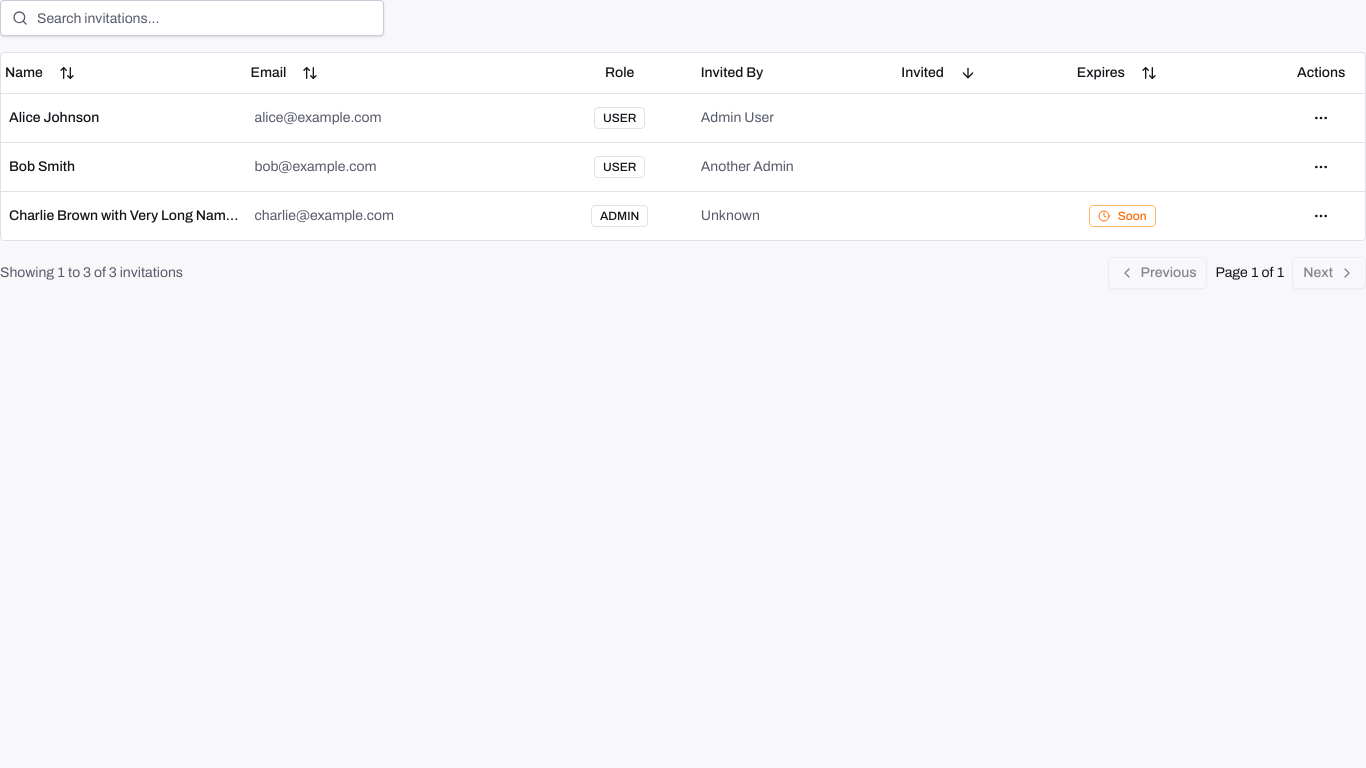
Scenario: components/admin/invitation-table › delete invitation action › should cancel invitation deletion
The image size is (1366, 768).
// Open delete dialog
Click the button named "open menu" in the row of "Alice Johnson" at coordinates (1321, 118), box [1305, 102, 1337, 134]
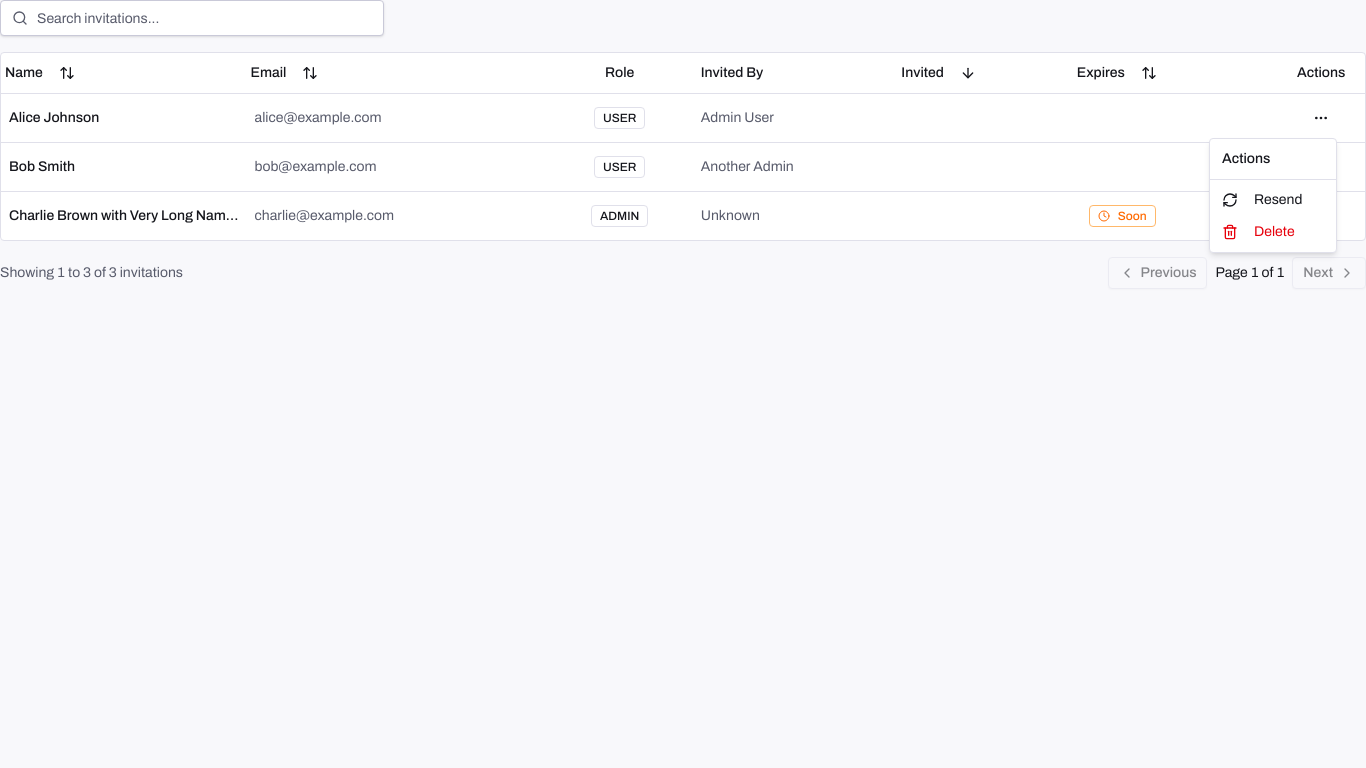
Click the menu item "Delete" at coordinates (1258, 232), box [1222, 224, 1295, 240]
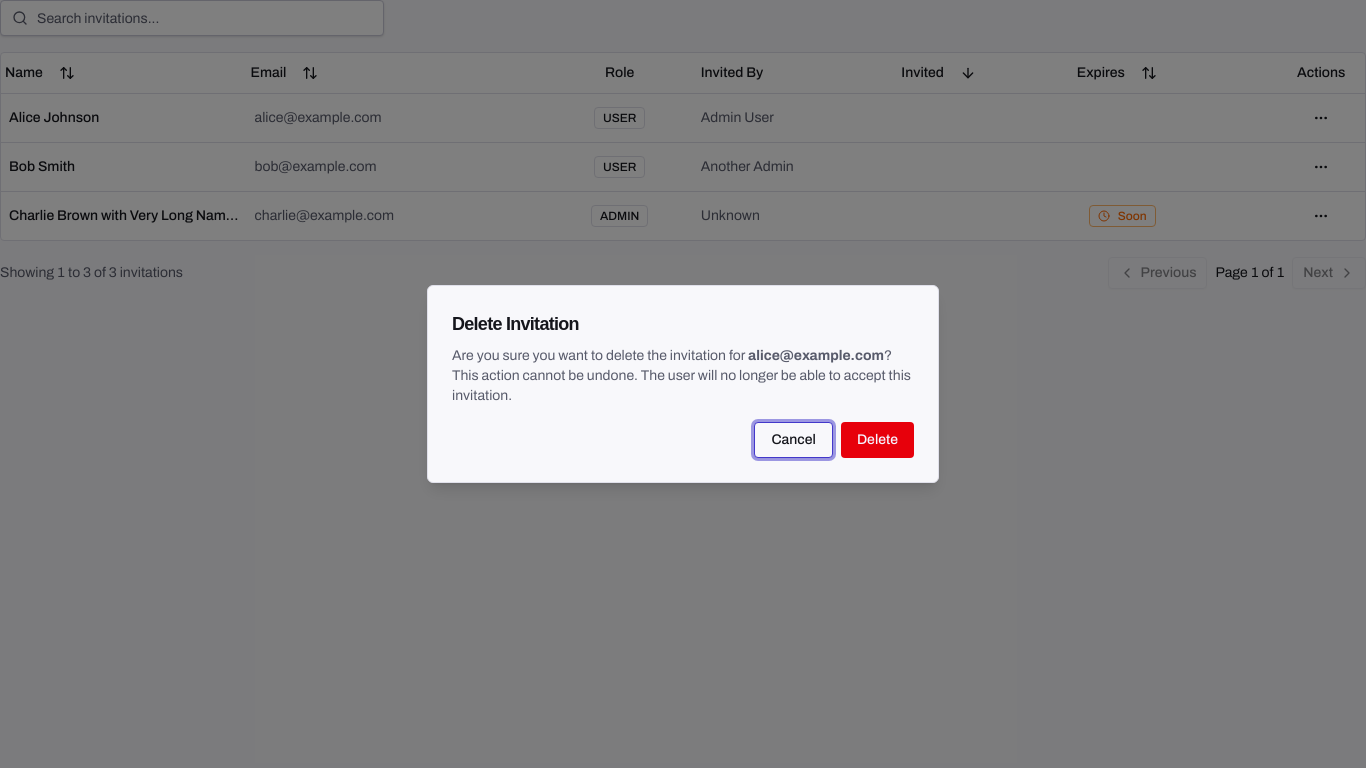
// Act: Cancel
Click the button "Cancel" at coordinates (794, 440), box [754, 422, 833, 458]
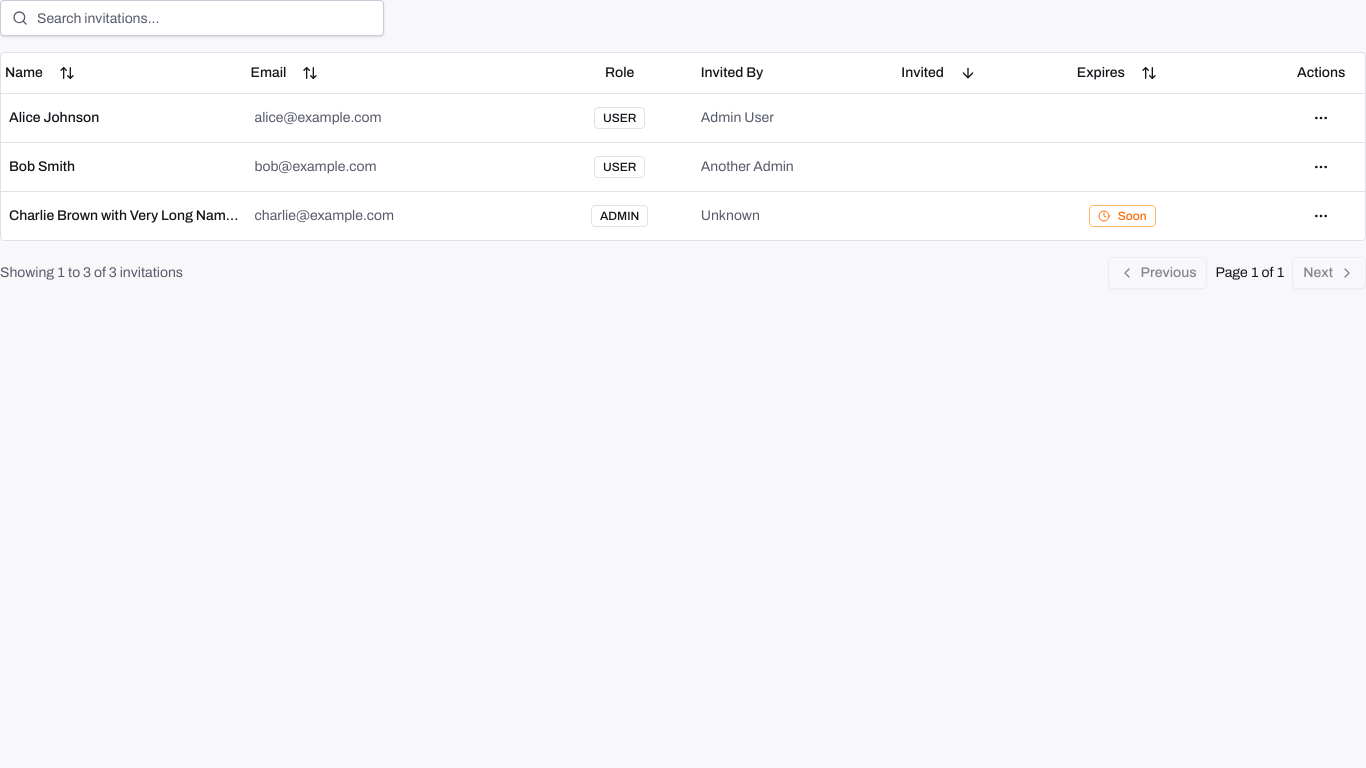
Now the heading "Delete Invitation" is gone
